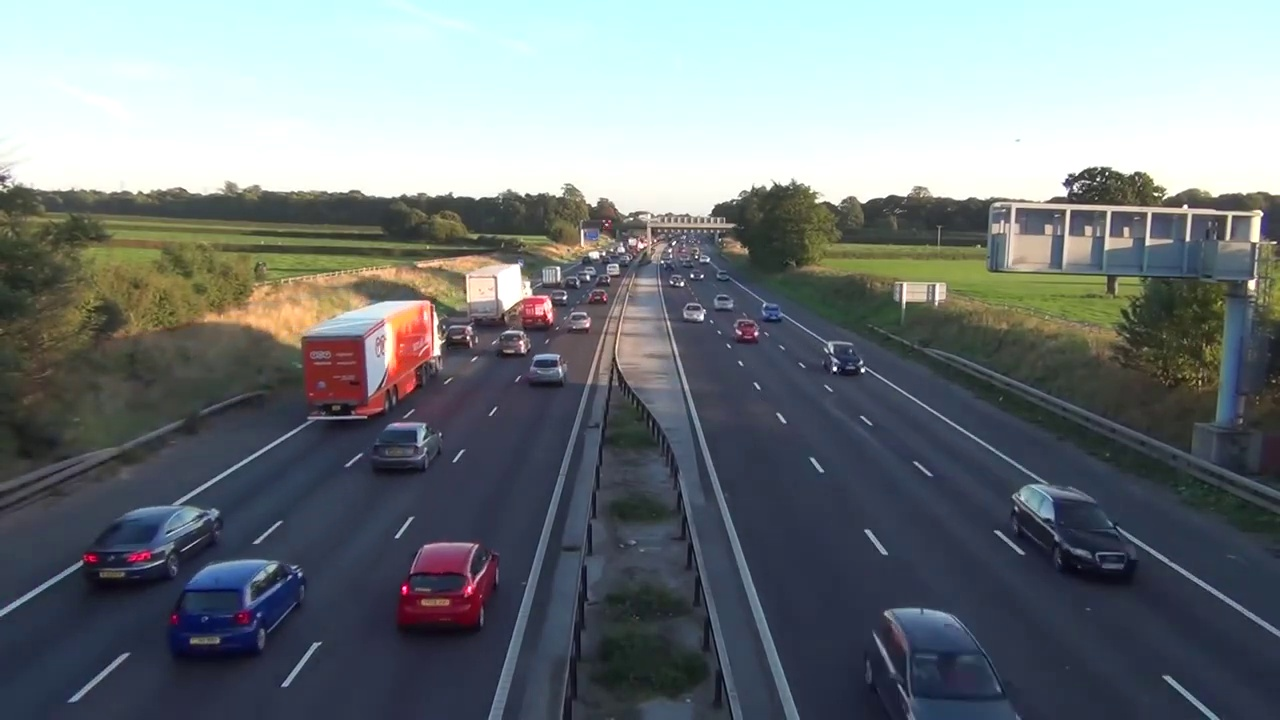bus: (862, 607, 1024, 720), (1012, 477, 1135, 590), (168, 561, 305, 659), (84, 505, 226, 584), (398, 538, 504, 633), (368, 422, 446, 472), (822, 340, 867, 380), (528, 353, 569, 385), (497, 330, 532, 359), (444, 324, 479, 349), (733, 319, 760, 344), (567, 312, 594, 332), (683, 304, 707, 325), (713, 295, 736, 313), (763, 305, 783, 322), (549, 290, 567, 308), (588, 289, 608, 304)
car: (303, 300, 438, 423), (467, 264, 525, 324)
minibus: (522, 296, 551, 330)
